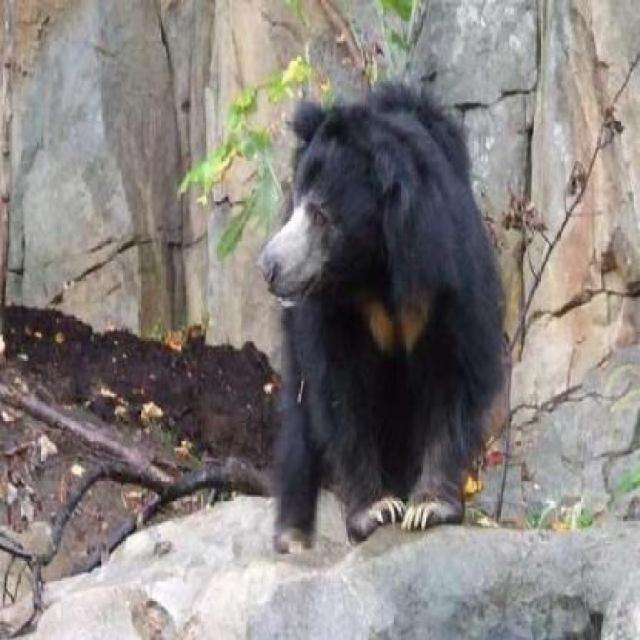Bear: (246, 76, 497, 553)
